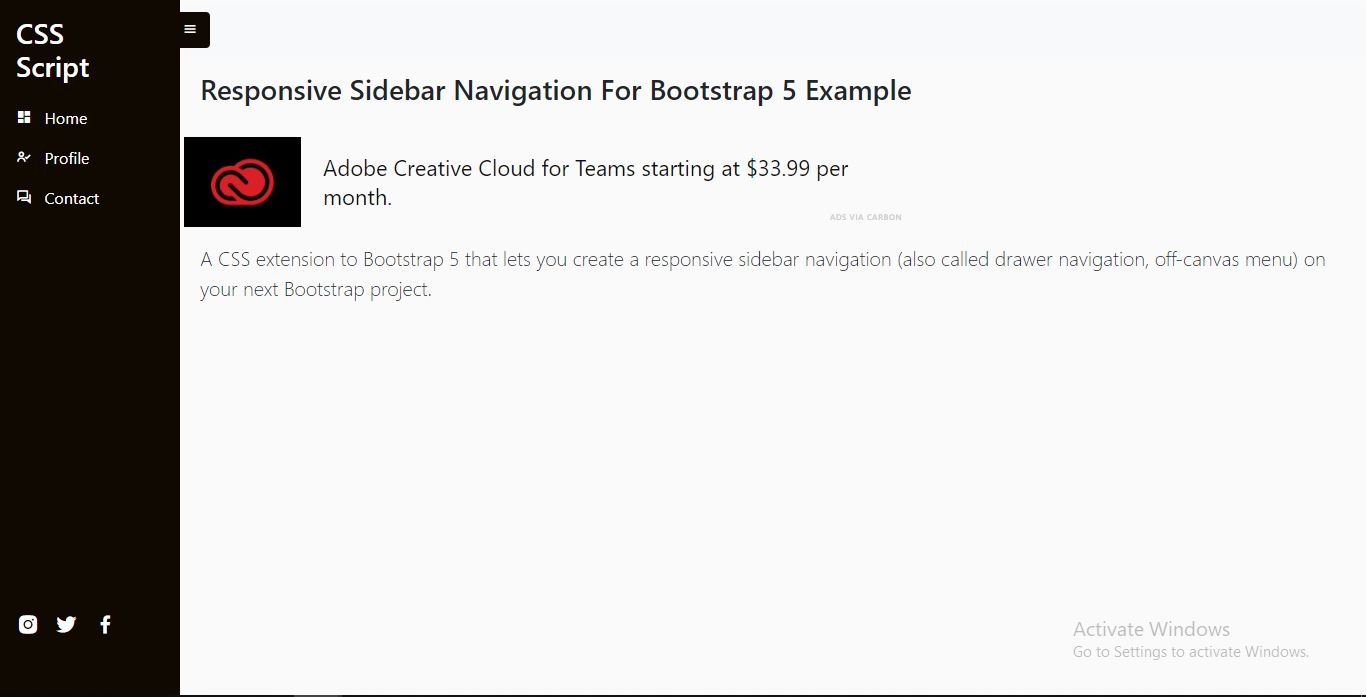Button: (175, 12, 212, 46)
Side Bar: (0, 0, 179, 697)
